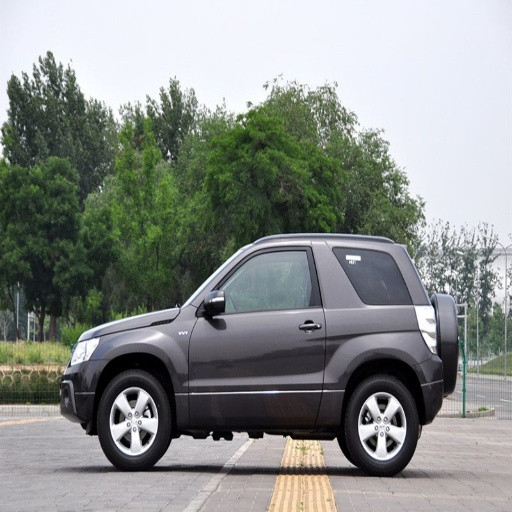back_glass: (361, 252, 412, 303)
back_left_door: (310, 242, 348, 389)
front_left_door: (189, 244, 323, 414)
trunk: (337, 310, 440, 403)
